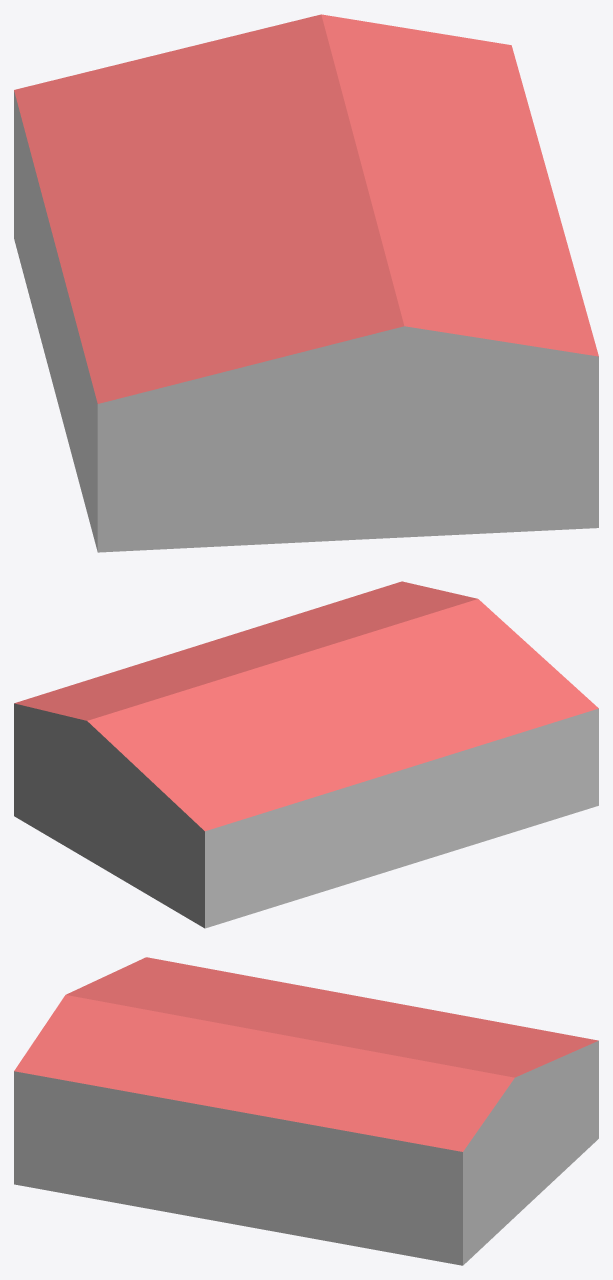
File: DEBY_LOD2_4908178.gltf
The picture shows the model from 3 angles, top to bottom: view 1: azimuth 30°, elevation 25°; view 2: azimuth 150°, elevation 25°; view 3: azimuth 270°, elevation 25°; orthographic projection. The views are drawn at different scales.
Parts seen in each view (by area): view 1: Z_UP; view 2: Z_UP; view 3: Z_UP.
Part boxes in pixels (<box>): Z_UP: <box>14,14,598,552</box>; Z_UP: <box>14,581,598,928</box>; Z_UP: <box>14,957,598,1265</box>.
Size of the model in its own units: 13.3 by 4.11 by 15.61.
